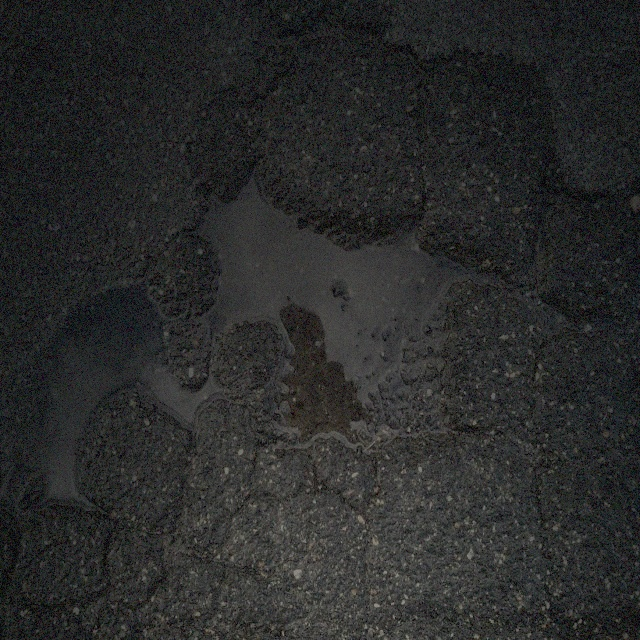pothole: (192, 206, 471, 410), (22, 302, 207, 538)
